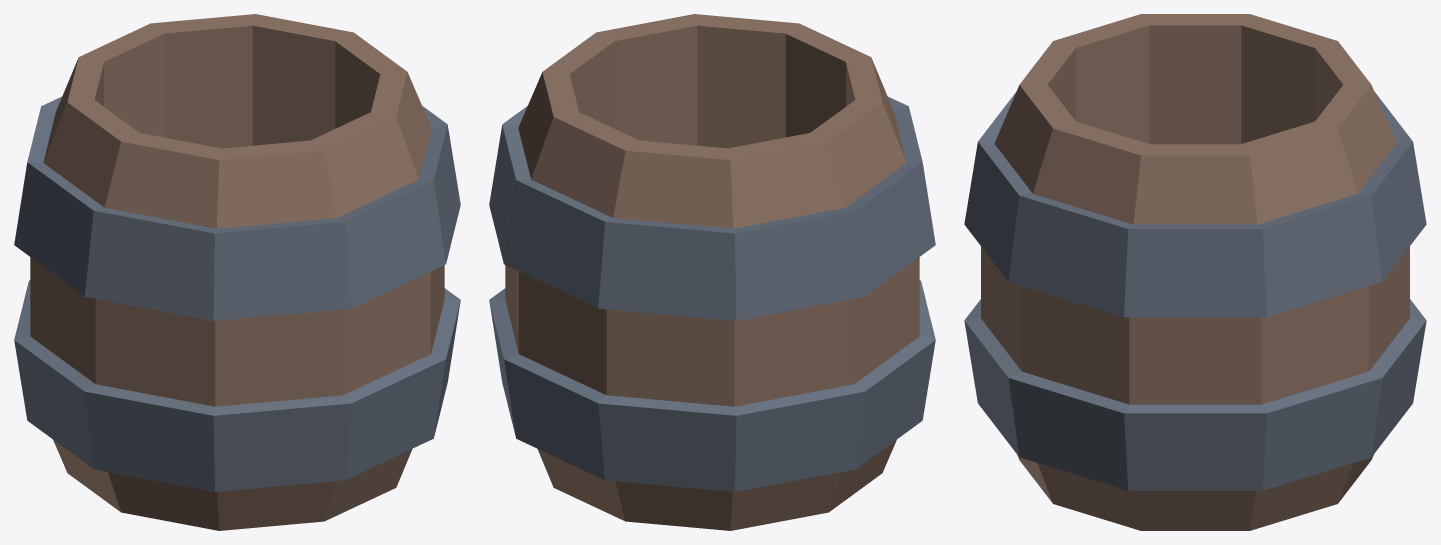
The model's file is Trashcan.fbx.
3 renders of one model, left to right at view 1: azimuth 30°, elevation 25°; view 2: azimuth 150°, elevation 25°; view 3: azimuth 270°, elevation 25°, orthographic.
Parts seen in each view (by area): view 1: Trashcan; view 2: Trashcan; view 3: Trashcan.
Boxes of the visible parts, <box> form: Trashcan: <box>14,14,460,530</box>; Trashcan: <box>489,14,935,530</box>; Trashcan: <box>964,14,1426,530</box>.
Size of the model in its own units: 700 by 659 by 736.
